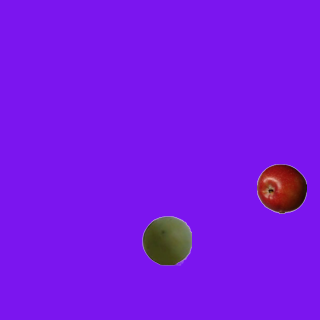Apple Braeburn: (256, 163, 306, 213)
Grape White 4: (141, 215, 191, 265)
